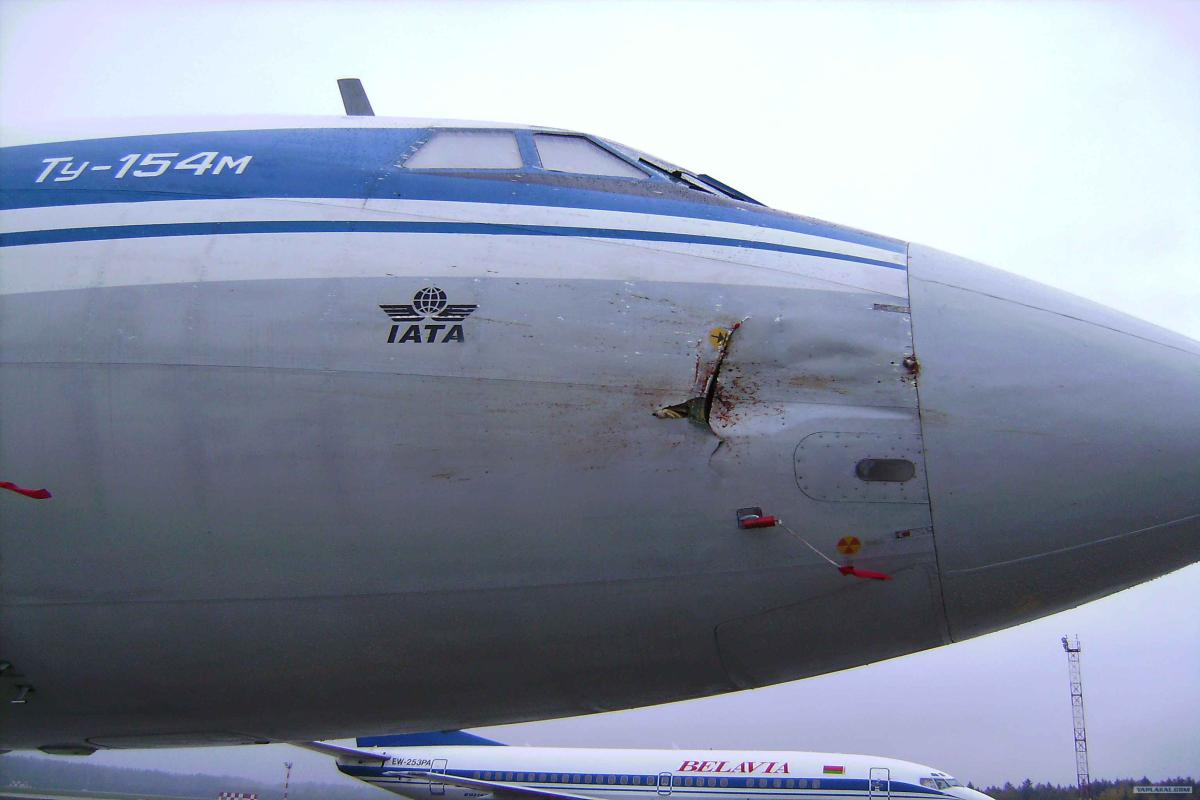Fuselage_damage: (638, 310, 929, 482)
